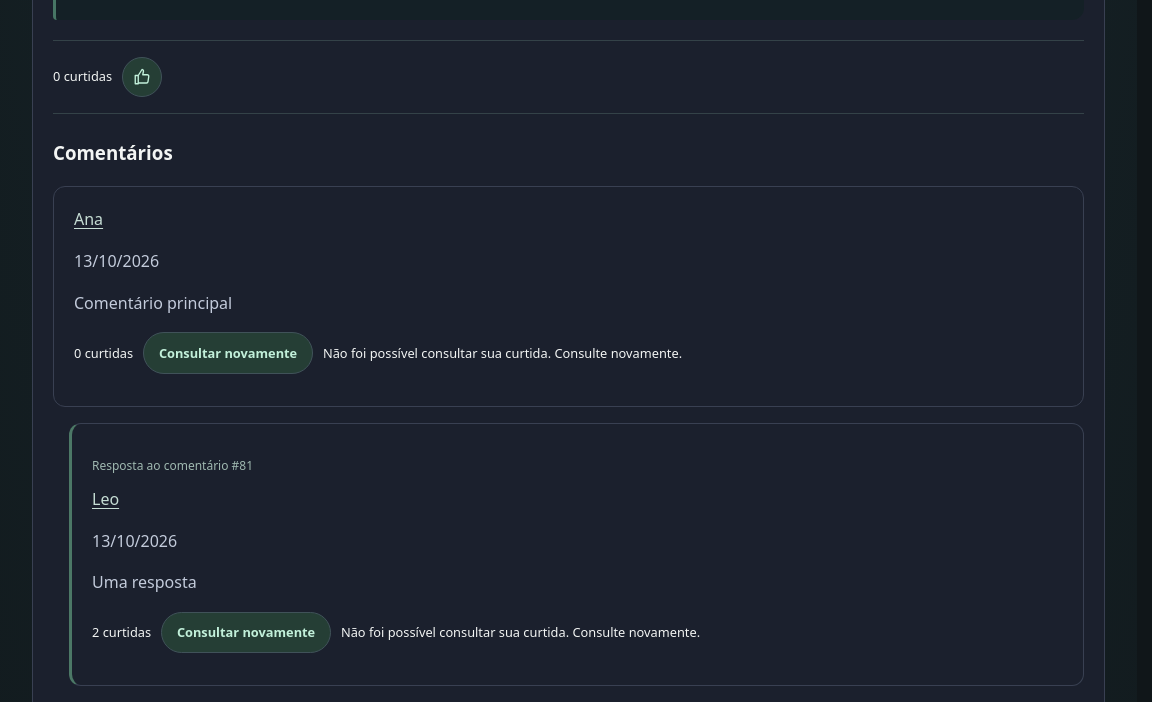
Test: falha pessoal/contrato legado exige retry somente de leitura: legado=false
(page scrolled)
Expected: the text "Comentário principal" is shown, [74,292,232,314]
Expected: the text "0 curtidas" below "Comentário principal" is shown, [74,343,133,363]
Click the button with aria-label "Consultar novamente curtida do comentário de Ana": (228, 353) [144,332,313,374]
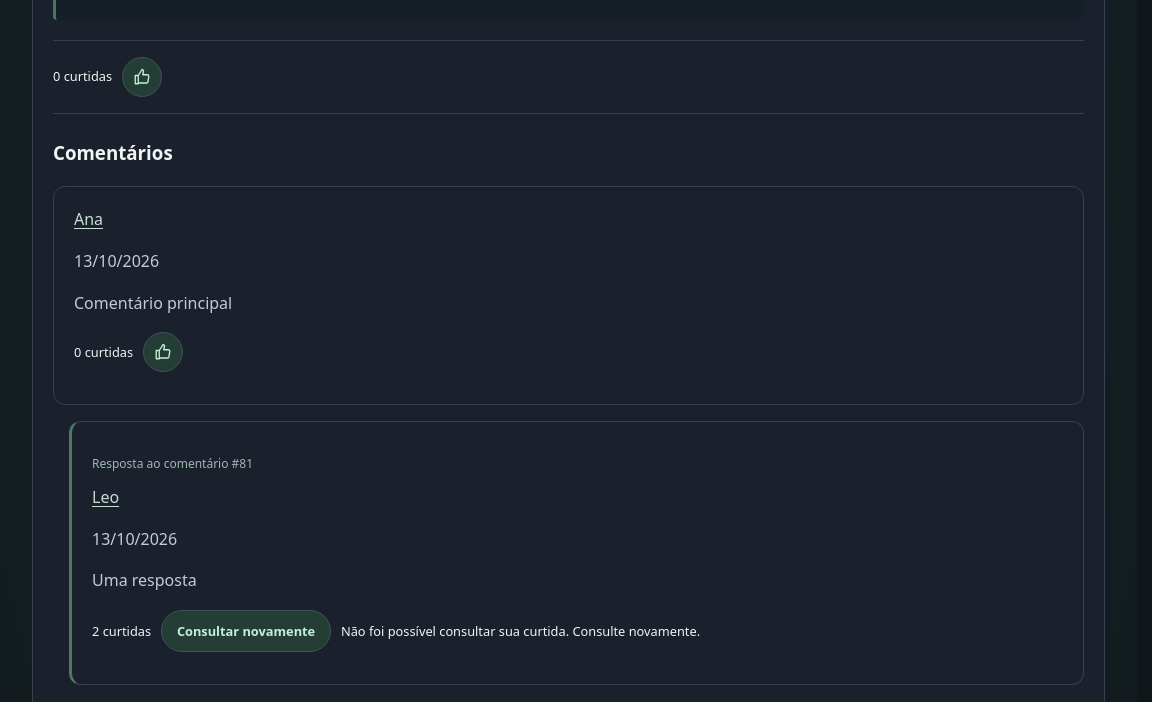
Result: the button named "Curtir comentário de Ana" is shown at [144,332,184,372]
